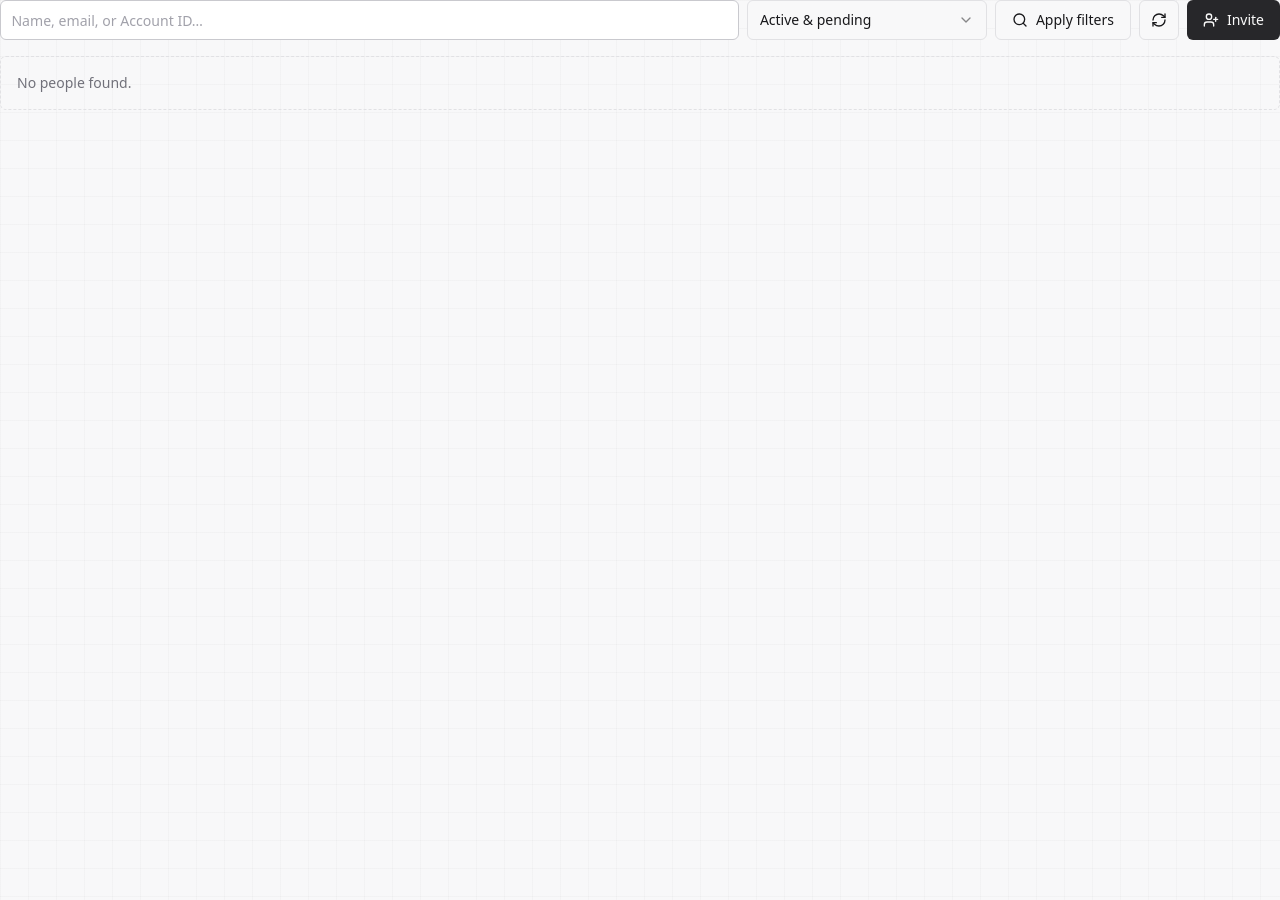
Test case: App invitations require an explicit unconstrained-link choice
Expected: the text "No people found." is shown, [0, 56, 1279, 110]
What coordinates should you click on to do the following:
click the button "Invite"
I would click on:
 (1233, 20)
Its box is [1187, 0, 1279, 40].
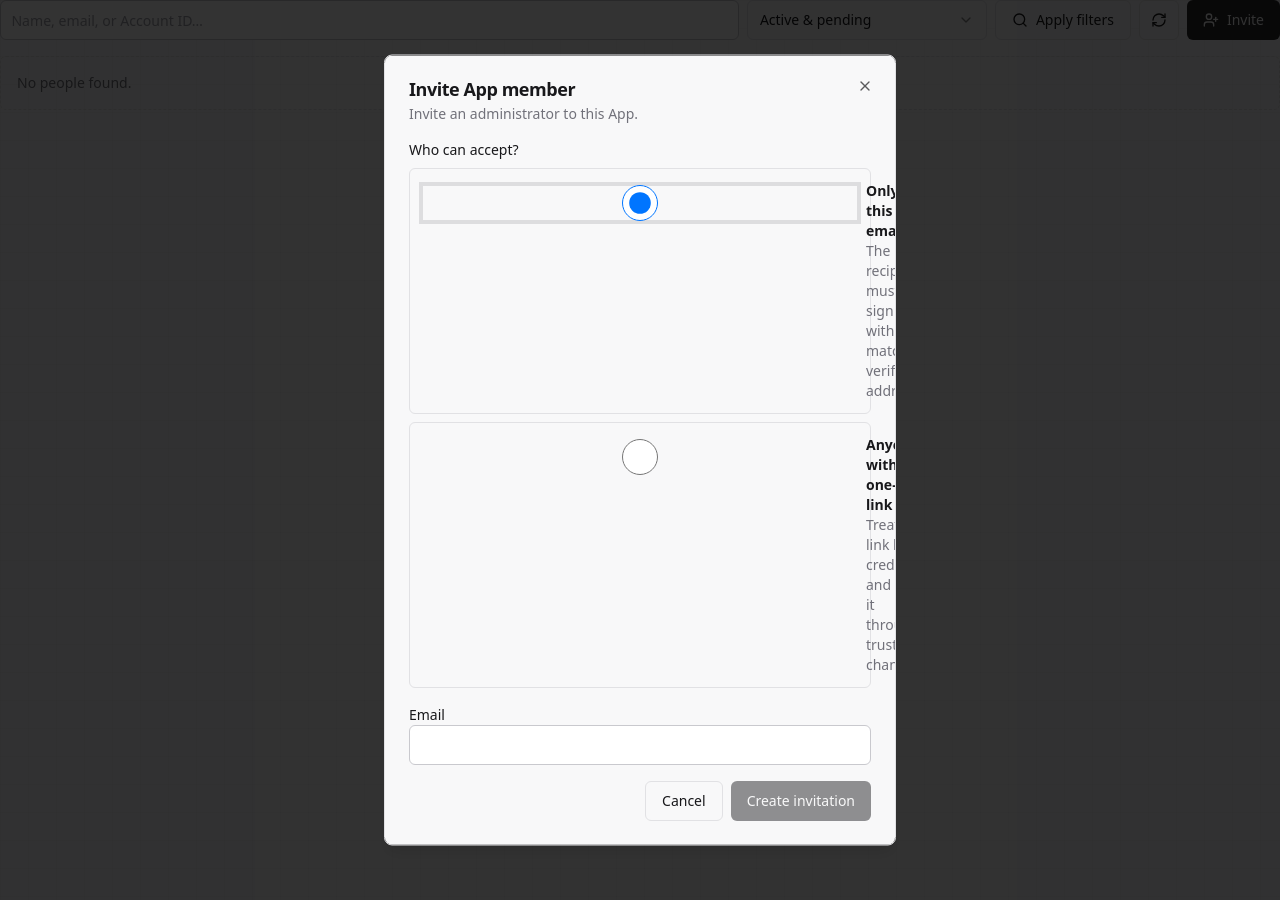
What coordinates should you click on to do the following:
click the radio button labelled "Anyone with the one-time link"
I would click on:
 (640, 456)
Its box is [422, 438, 858, 474].
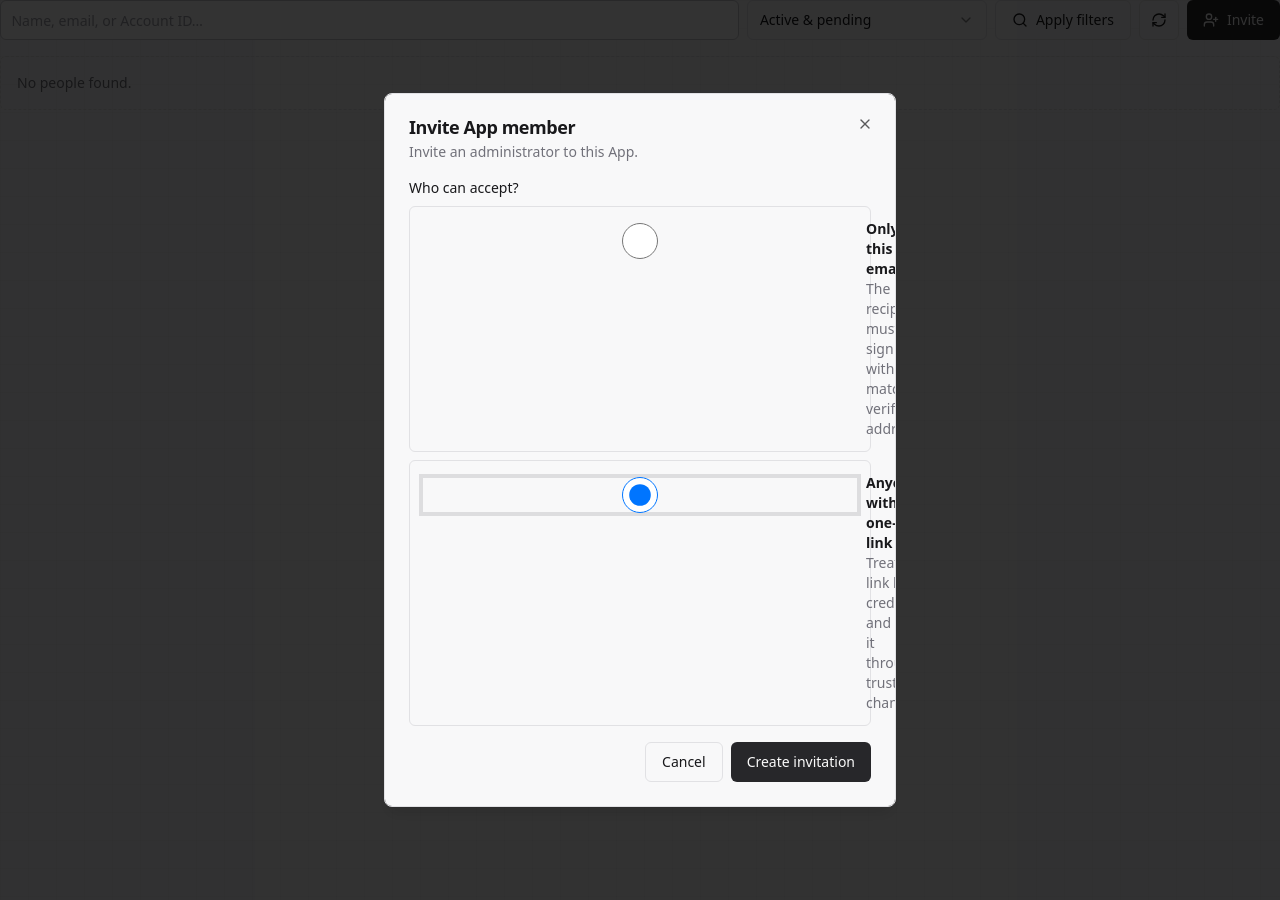
What coordinates should you click on to do the following:
click the button "Create invitation"
I would click on:
 (801, 762)
Its box is [731, 742, 871, 782].
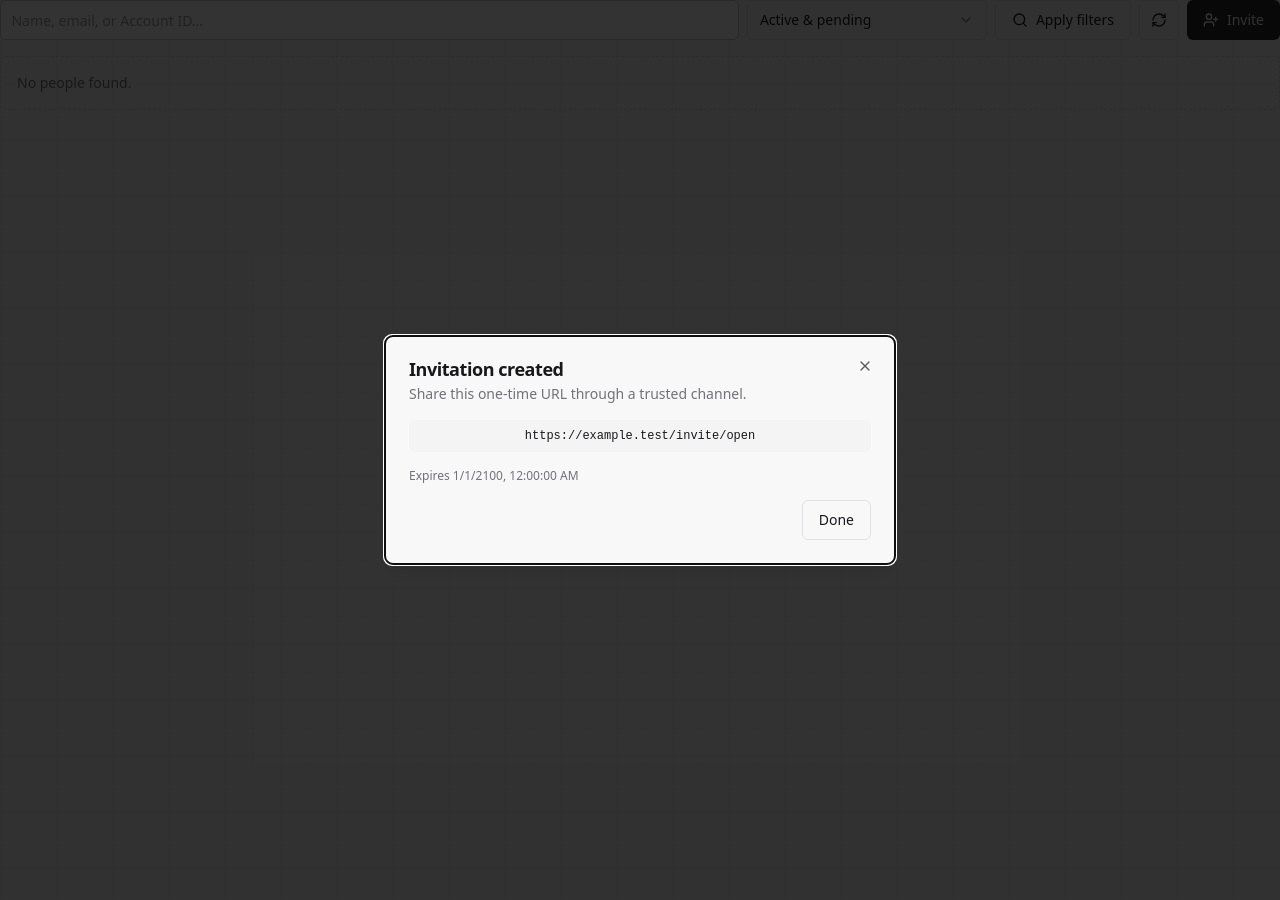
Now the text "https://example.test/invite/open" is shown, box [525, 428, 755, 444]
